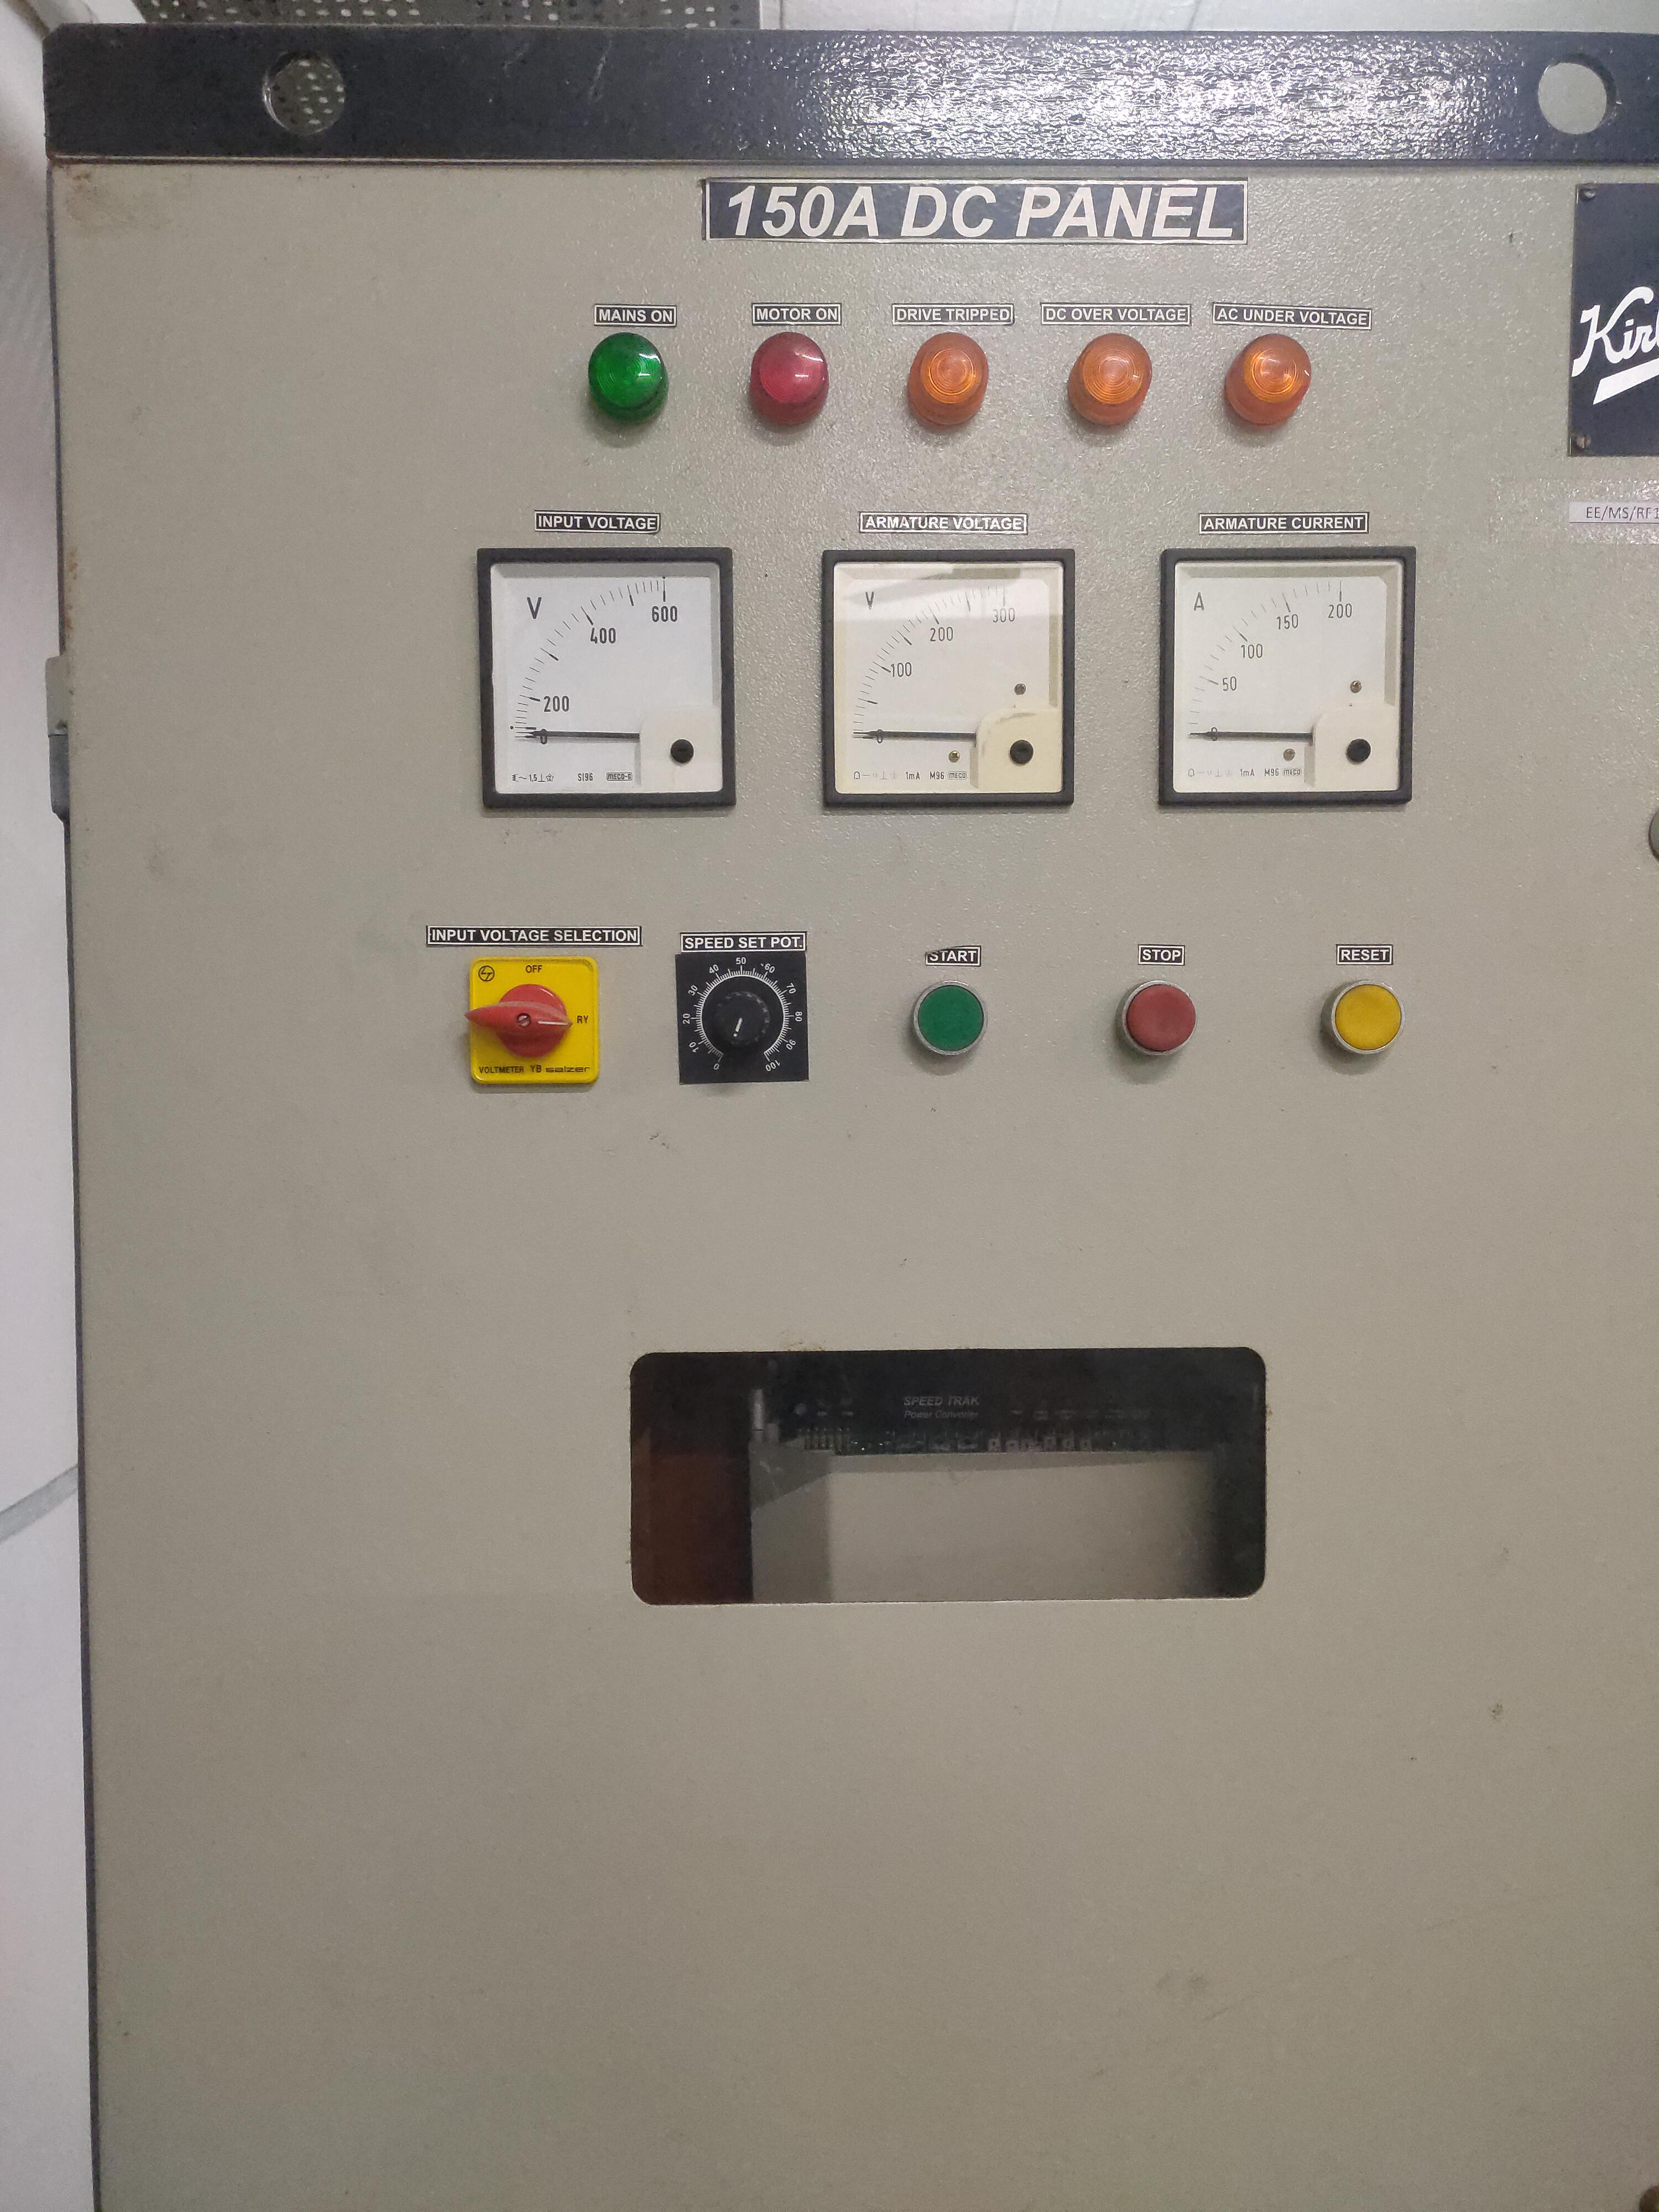Light Indications: (538, 277, 1385, 481)
